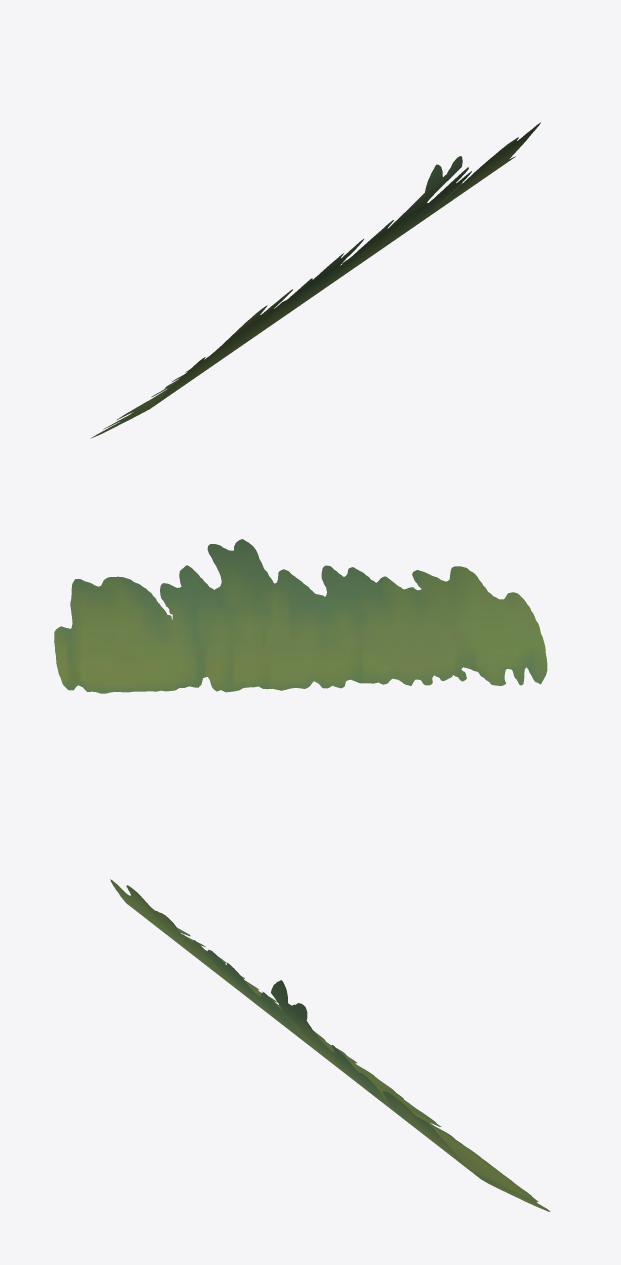
The model's file is pref_sm_beach_techsgrass11_lv2.fbx.
The picture shows the model from 3 angles, top to bottom: view 1: azimuth 30°, elevation 25°; view 2: azimuth 150°, elevation 25°; view 3: azimuth 270°, elevation 25°; orthographic projection. The views are drawn at different scales.
Parts seen in each view (by area): view 1: pref_sm_beach_techsgrass11_lv2; view 2: pref_sm_beach_techsgrass11_lv2; view 3: pref_sm_beach_techsgrass11_lv2.
Part boxes in pixels (box(x1,y1,x2,y2)): pref_sm_beach_techsgrass11_lv2: box(90, 122, 540, 438); pref_sm_beach_techsgrass11_lv2: box(54, 539, 547, 693); pref_sm_beach_techsgrass11_lv2: box(110, 879, 550, 1211).
Size of the model in its own units: 1.23 by 0.3266 by 0.8233.
